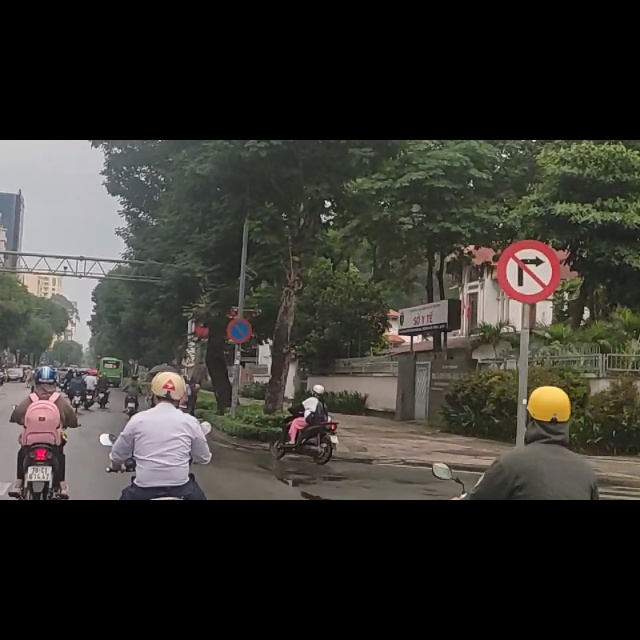bien_cam: (501, 180, 559, 289), (225, 313, 251, 359)
